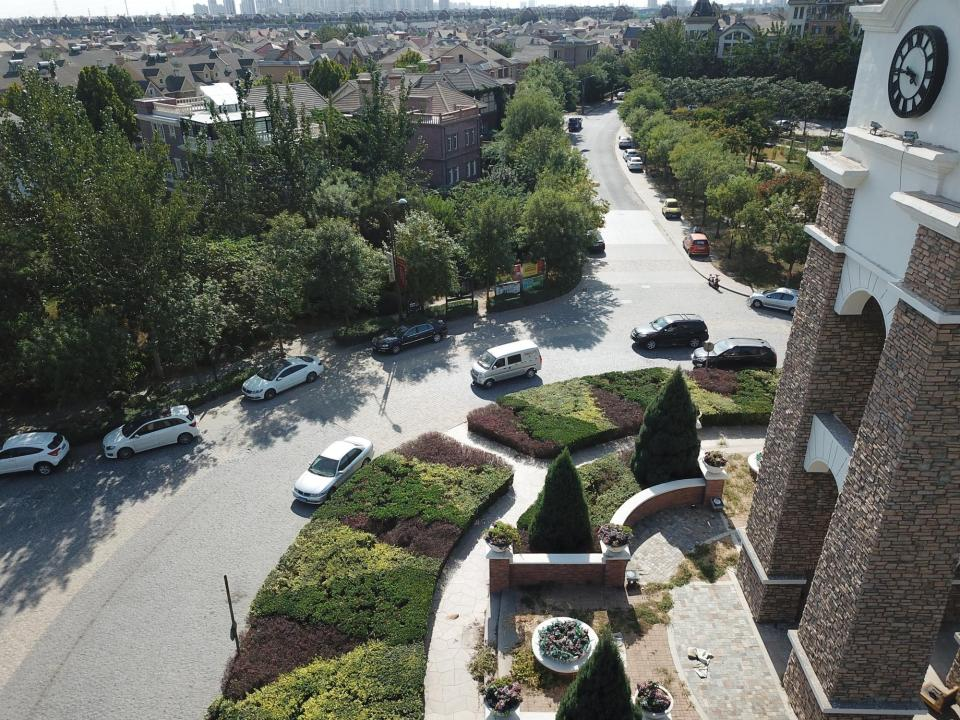car: (292, 434, 374, 506), (100, 405, 201, 460), (241, 353, 324, 403), (370, 316, 448, 356), (630, 312, 709, 351), (691, 338, 778, 372), (7, 430, 70, 476), (749, 288, 813, 316), (683, 233, 710, 258), (582, 225, 606, 253), (662, 198, 682, 219), (627, 156, 643, 170), (622, 148, 638, 162), (773, 120, 789, 131), (618, 136, 631, 148), (687, 105, 703, 112), (617, 92, 626, 100)
truck: (568, 116, 583, 131)
van: (470, 338, 542, 388)
